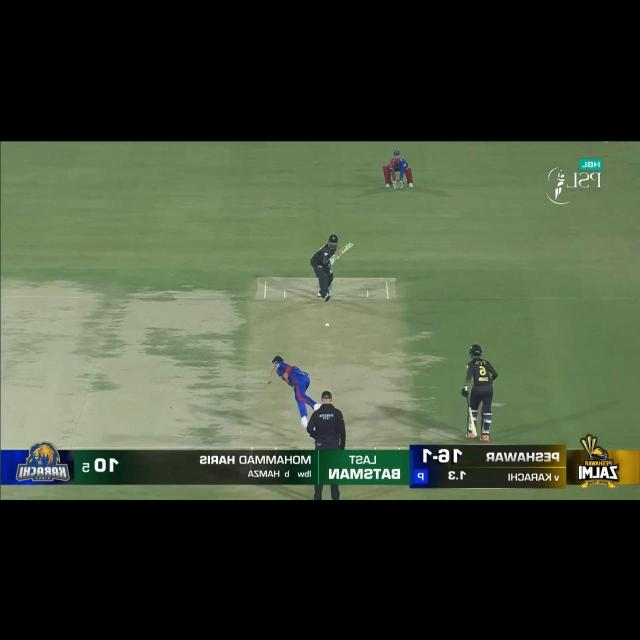bat: (330, 239, 354, 264), (466, 406, 477, 436)
toe: (468, 428, 477, 437), (346, 241, 353, 248)
